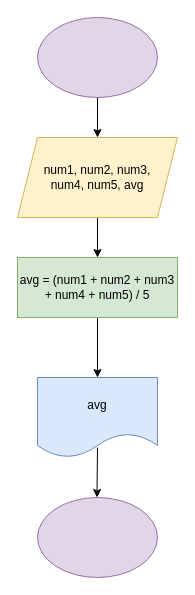
Image size: 195x595. Some labels were removed from this diagram. The centre of each missing label's shape, as x and y in pixels:
"End" belongs at pixel 97 537.
"Start" belongs at pixel 97 57.
